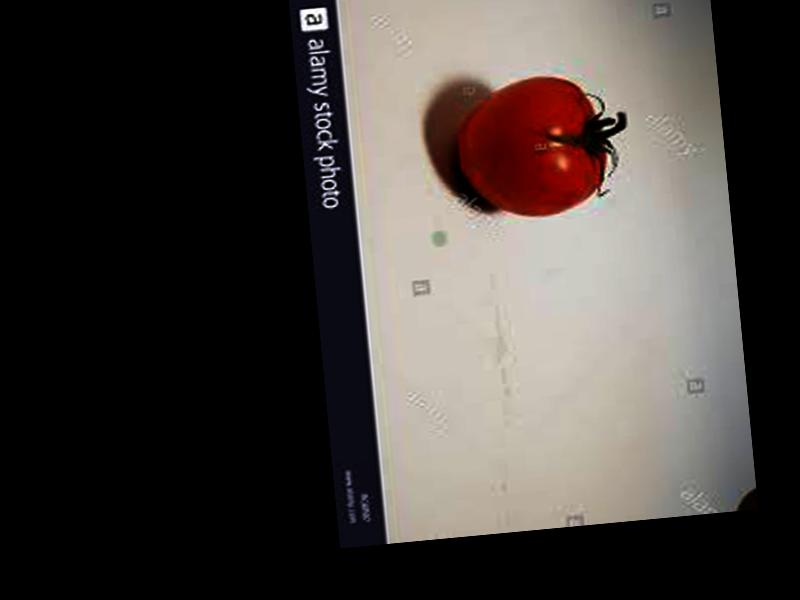Tomato: (450, 73, 608, 223)
